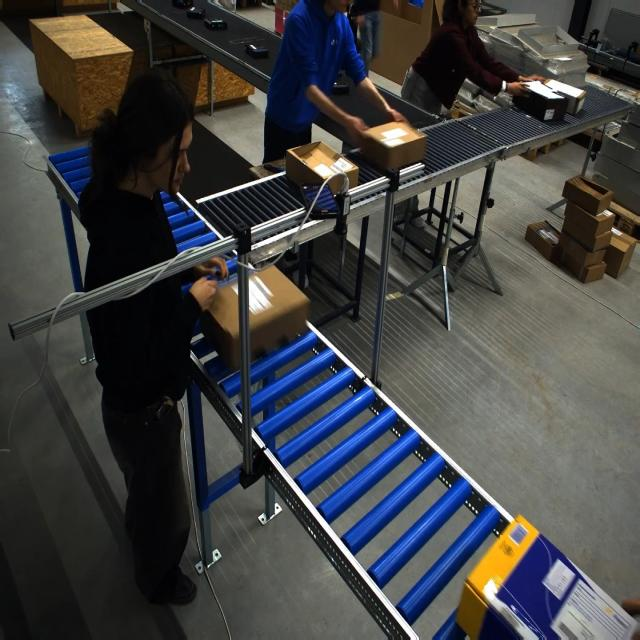box: (446, 508, 635, 637), (202, 264, 306, 371), (294, 137, 357, 195), (356, 122, 423, 174), (542, 79, 587, 116)
product: (245, 43, 269, 58), (204, 18, 227, 31), (332, 83, 350, 95), (187, 7, 205, 19), (172, 0, 193, 9)
